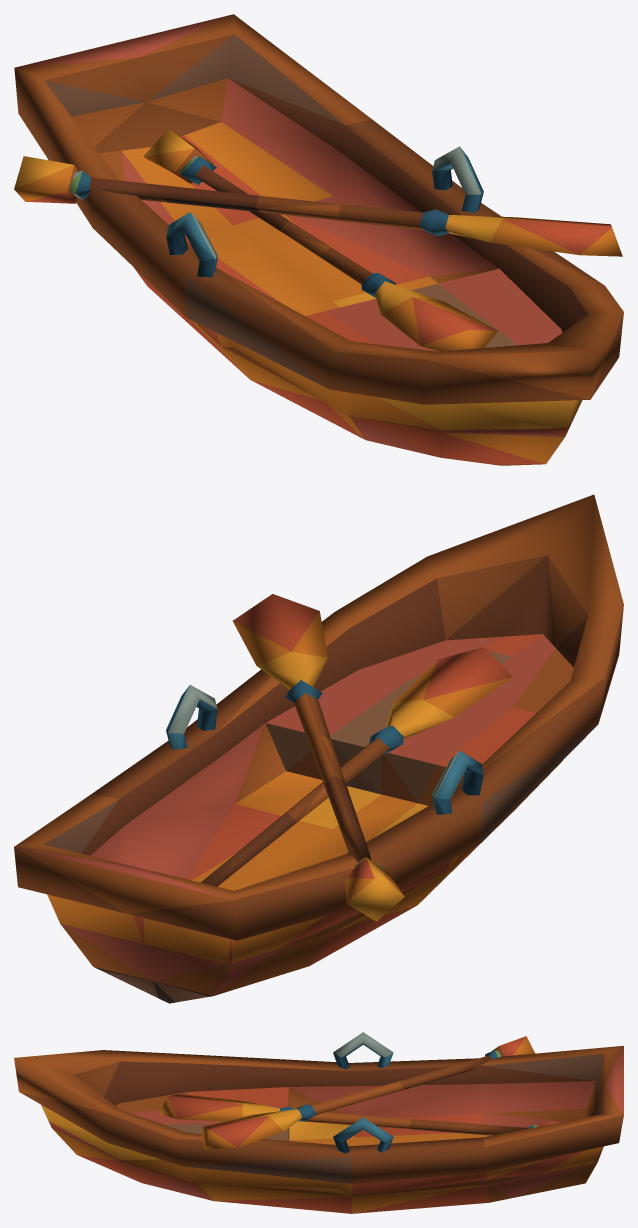
File: itch_fishing_village_boat.glb
3 views of the same model, one above another, from view 1: azimuth 30°, elevation 25°; view 2: azimuth 150°, elevation 25°; view 3: azimuth 270°, elevation 25° (orthographic). The views are drawn at different scales.
Visible parts, largest first — view 1: boat.001; view 2: boat.001; view 3: boat.001.
Part boxes in pixels (x1=…): boat.001: x1=14, y1=14, x2=623, y2=465; boat.001: x1=14, y1=494, x2=623, y2=1003; boat.001: x1=14, y1=1032, x2=623, y2=1213.
Bounding box in the file's own units: 0.4533 × 0.2511 × 0.96.
